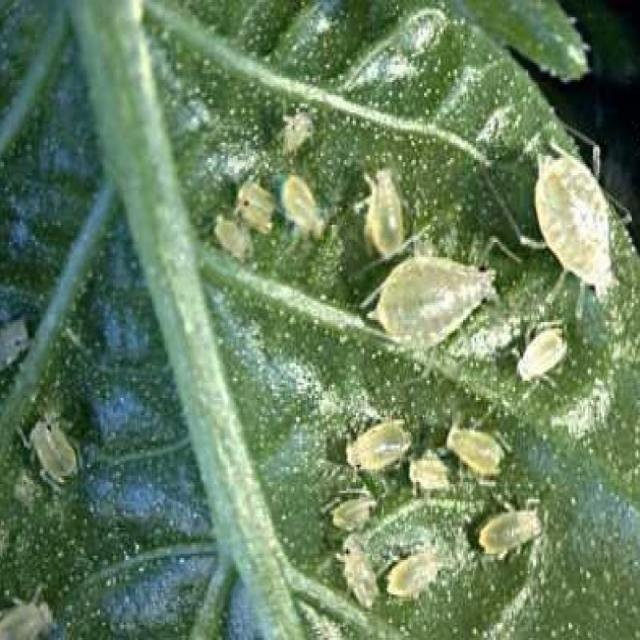Aphid-Grown-: (357, 228, 504, 378), (519, 118, 624, 310), (461, 486, 554, 570), (502, 307, 590, 391), (437, 409, 519, 497), (348, 148, 407, 264), (27, 406, 92, 489), (380, 539, 454, 611), (332, 416, 417, 471)
